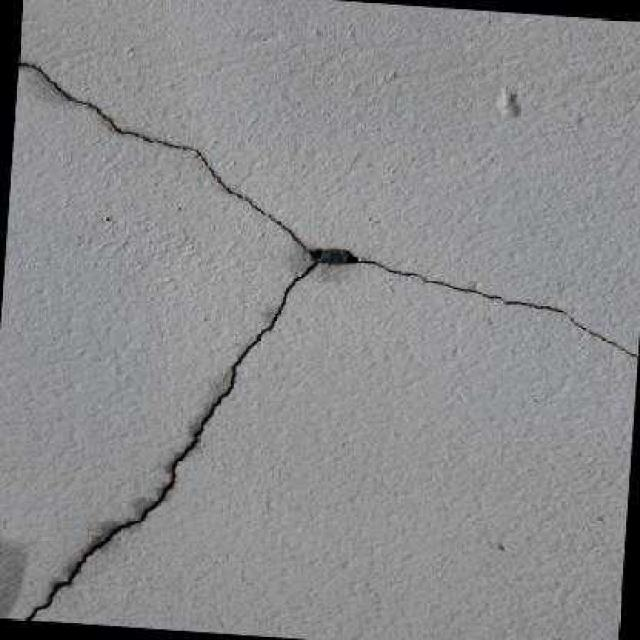D00: (17, 60, 638, 621)
